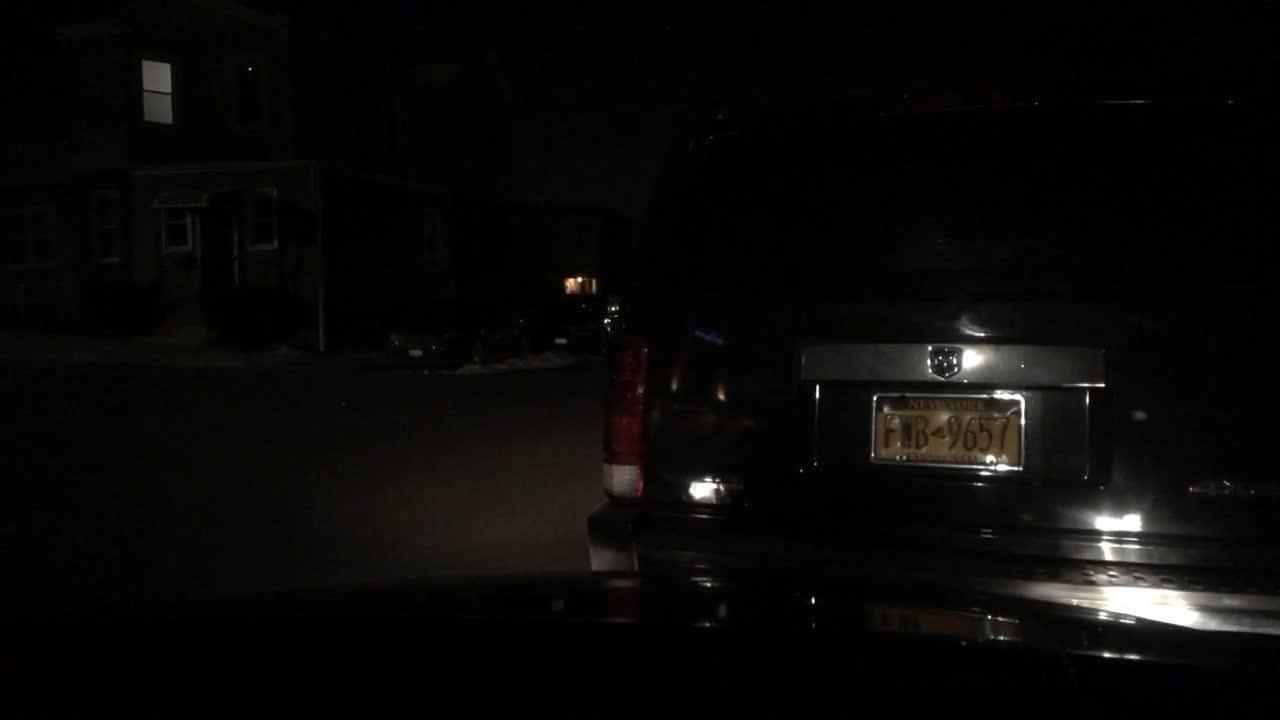ram: (907, 336, 975, 390)
